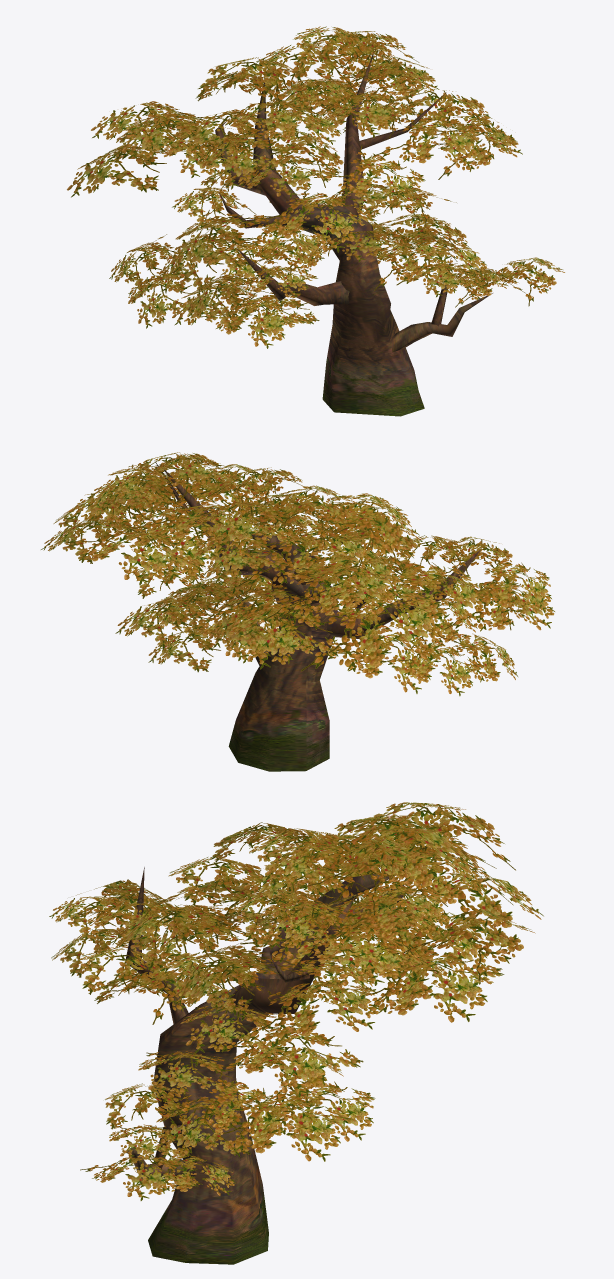
Rendered from environment_Tree_yellow_005_a.FBX.
3 views of the same model, one above another, from view 1: azimuth 30°, elevation 25°; view 2: azimuth 150°, elevation 25°; view 3: azimuth 270°, elevation 25° (orthographic). The views are drawn at different scales.
Visible parts, largest first — view 1: environment_Tree_yellow_005_b, environment_Tree_yellow_005_a; view 2: environment_Tree_yellow_005_b, environment_Tree_yellow_005_a; view 3: environment_Tree_yellow_005_b, environment_Tree_yellow_005_a.
Part boxes in pixels (x1,y1,x2,y2): environment_Tree_yellow_005_b: (67, 26, 564, 348); environment_Tree_yellow_005_a: (215, 51, 492, 416); environment_Tree_yellow_005_b: (41, 452, 554, 696); environment_Tree_yellow_005_a: (154, 460, 481, 771); environment_Tree_yellow_005_b: (49, 802, 543, 1200); environment_Tree_yellow_005_a: (126, 867, 406, 1264).
Bounding box in the file's own units: 723 × 639 × 491.
2 materials, 2 textured.
